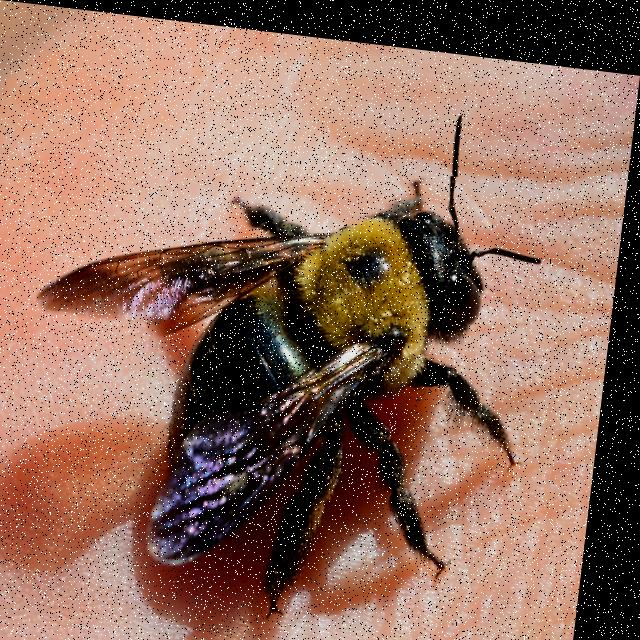Xylocopa: (11, 127, 586, 640)
